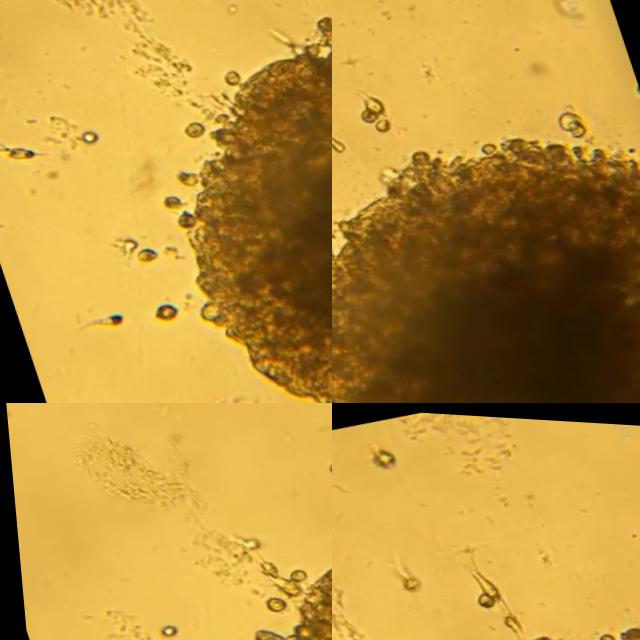cell: (352, 83, 378, 119), (470, 565, 495, 597), (102, 235, 130, 257), (267, 574, 295, 594), (73, 311, 112, 324), (227, 531, 254, 547), (554, 107, 577, 124), (217, 65, 239, 82), (0, 146, 26, 160), (258, 595, 280, 611), (143, 301, 166, 316), (253, 558, 271, 577), (373, 447, 392, 465), (499, 612, 519, 629), (564, 113, 583, 130), (178, 118, 196, 135), (167, 169, 190, 182), (398, 570, 413, 588), (474, 589, 492, 604), (129, 245, 147, 258), (154, 194, 174, 205), (153, 622, 171, 634), (75, 129, 92, 141), (285, 565, 302, 577), (372, 115, 385, 129), (630, 77, 639, 92), (332, 136, 342, 148), (324, 458, 332, 472)
tumor_mass: (332, 131, 640, 403), (170, 12, 332, 403)
